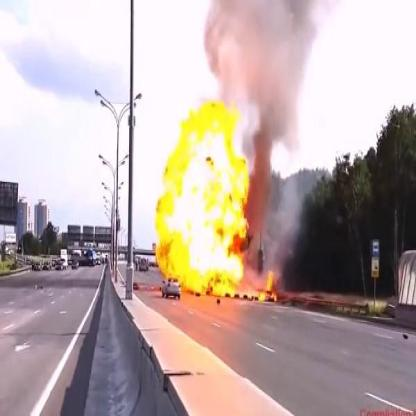fire: (154, 94, 252, 294), (255, 266, 280, 304)
